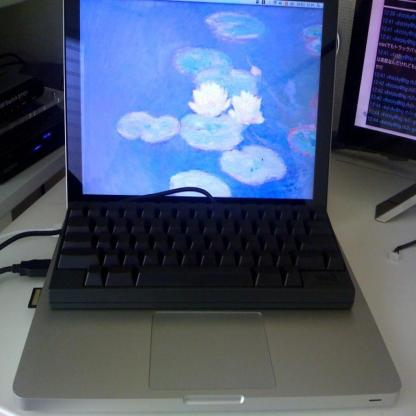board: (13, 0, 402, 416)
